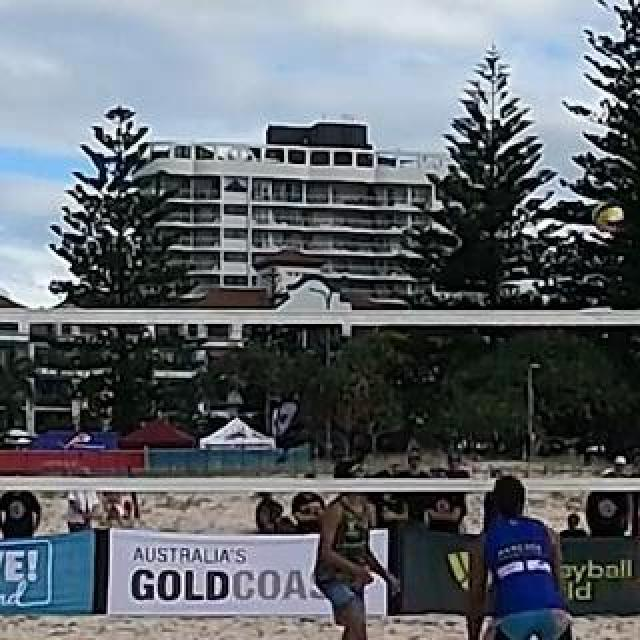volleyball: (594, 204, 626, 234)
